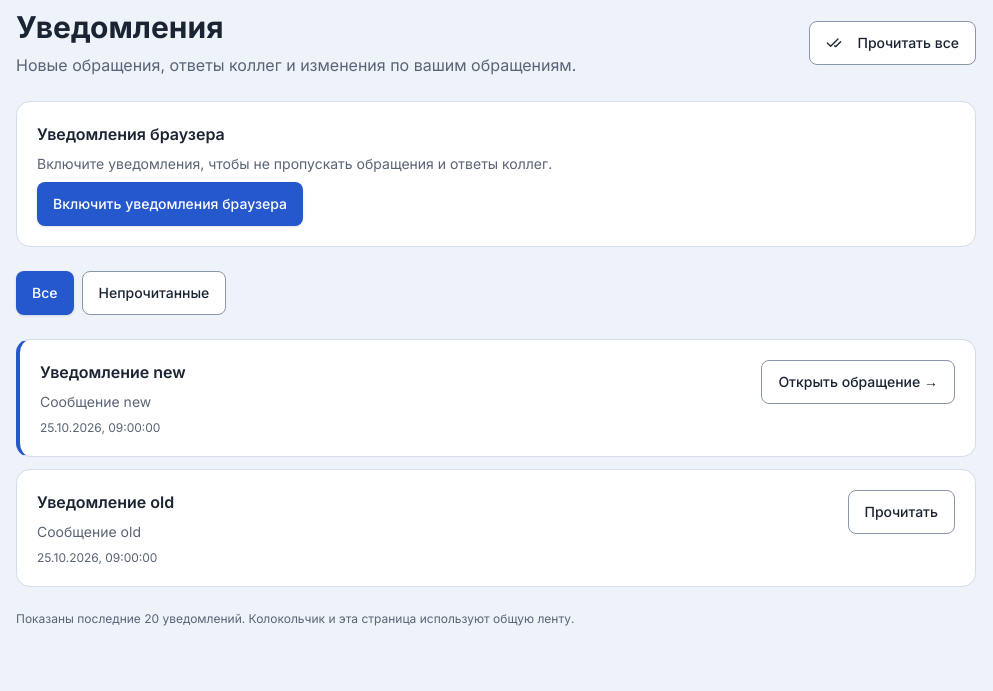
actual notification center › shows failed mutations and keeps the notice available for retry
This screenshot has width=993, height=691.
Click the button "Прочитать все": (892, 43) [808,21,976,65]
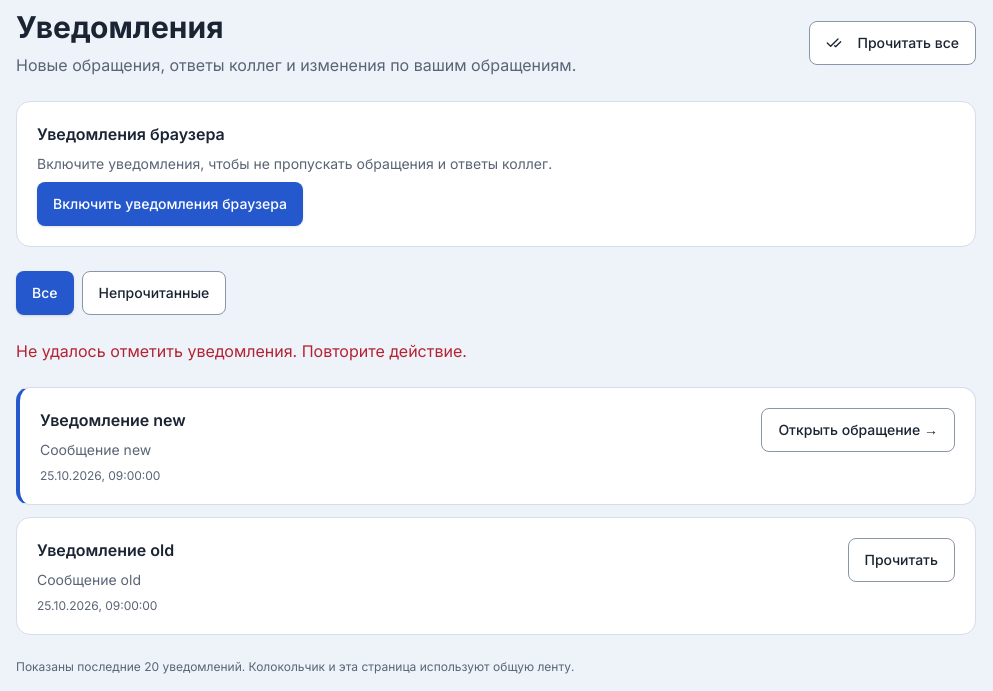
Check: the heading "Уведомление new" is shown, box [40,410,186,430]
Check: the message "Не удалось отметить уведомления. Повторите действие." is shown, box [16,341,467,361]
